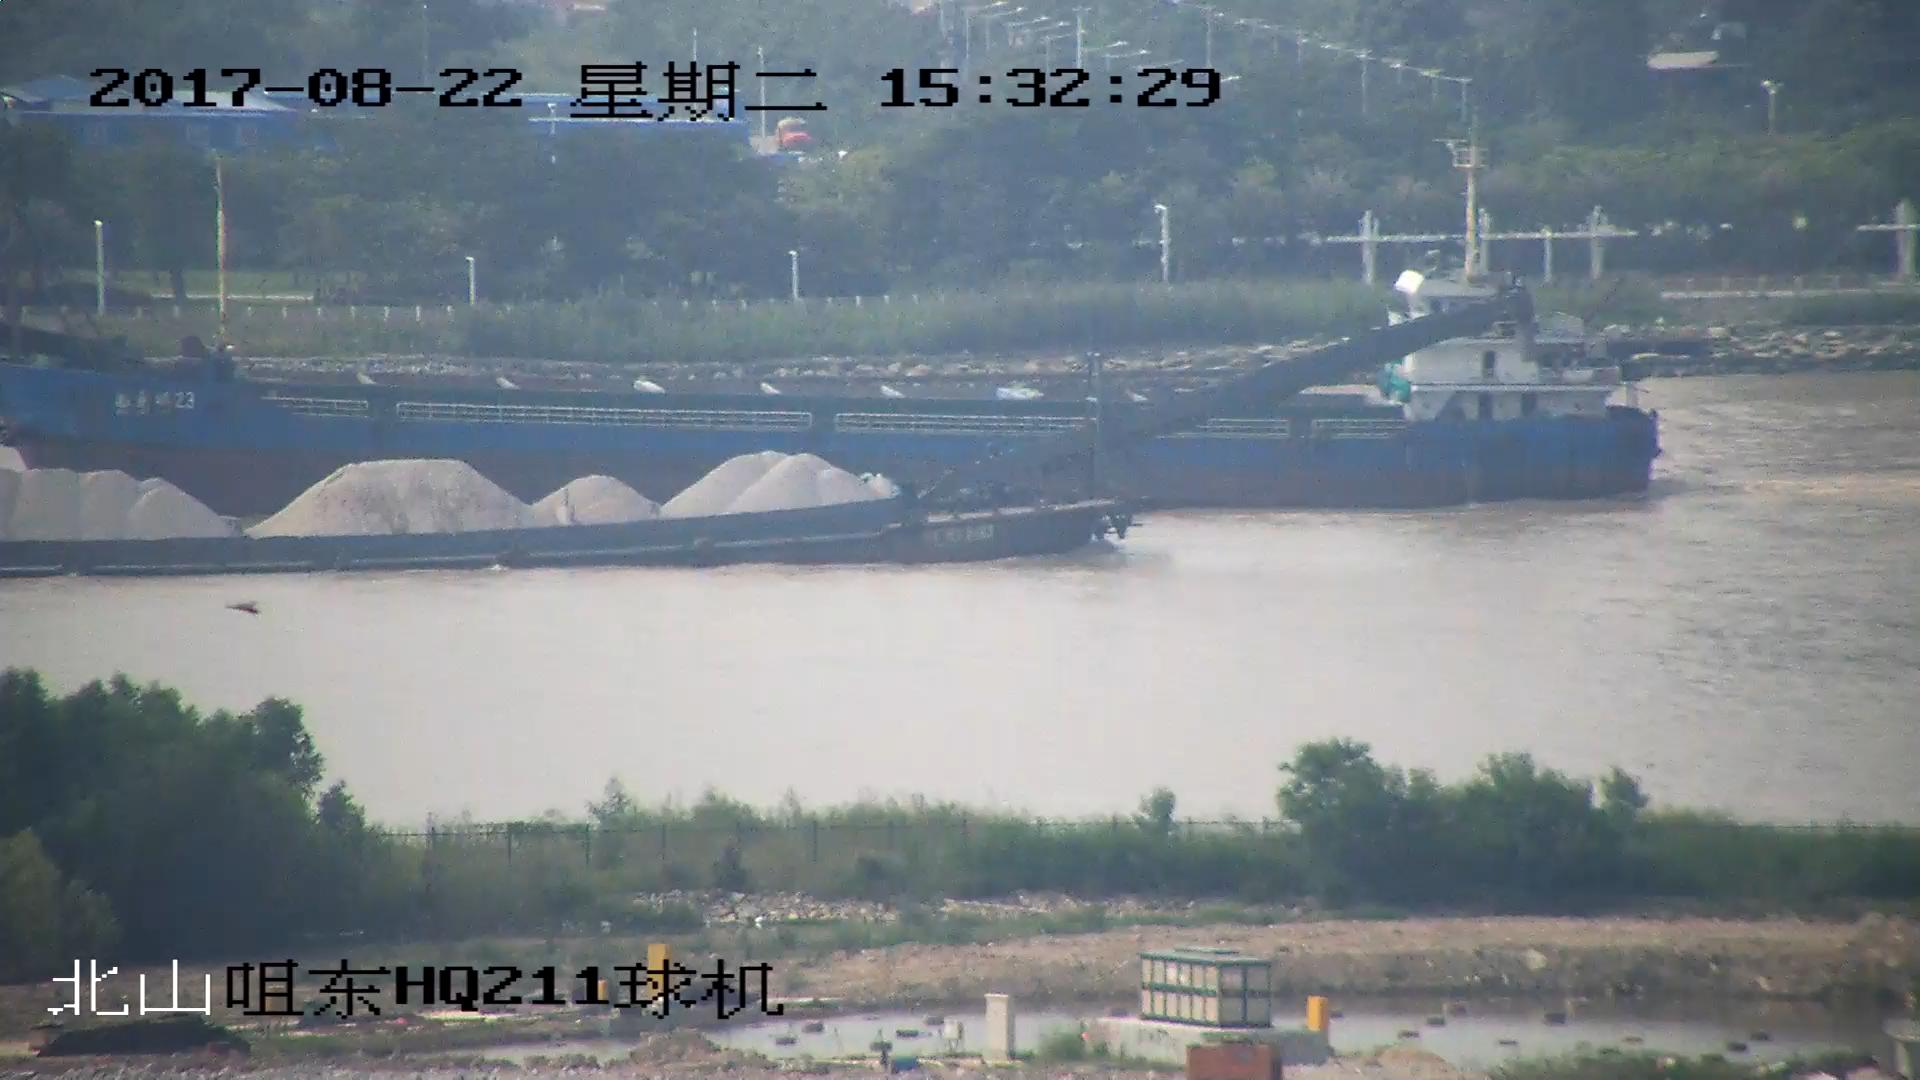bulk cargo carrier: (1, 133, 1670, 510)
ore carrier: (1, 295, 1533, 577)
